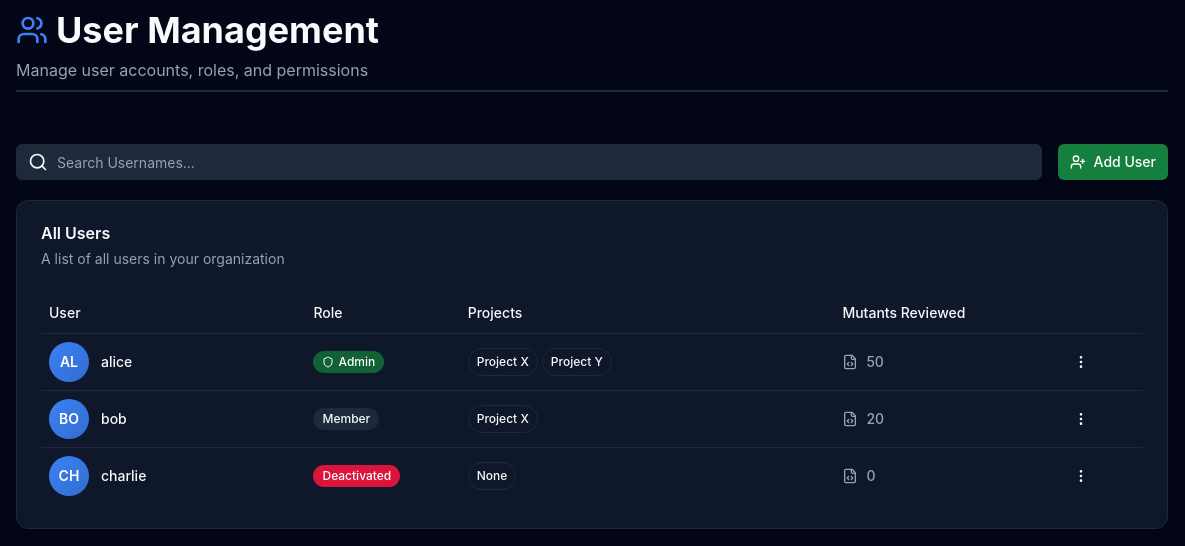
it: UserManagement › shows an empty-table message when search has no matches
Type "nobody" into the search field named "Search users". click: (529, 162)
box: [16,144,1042,180]
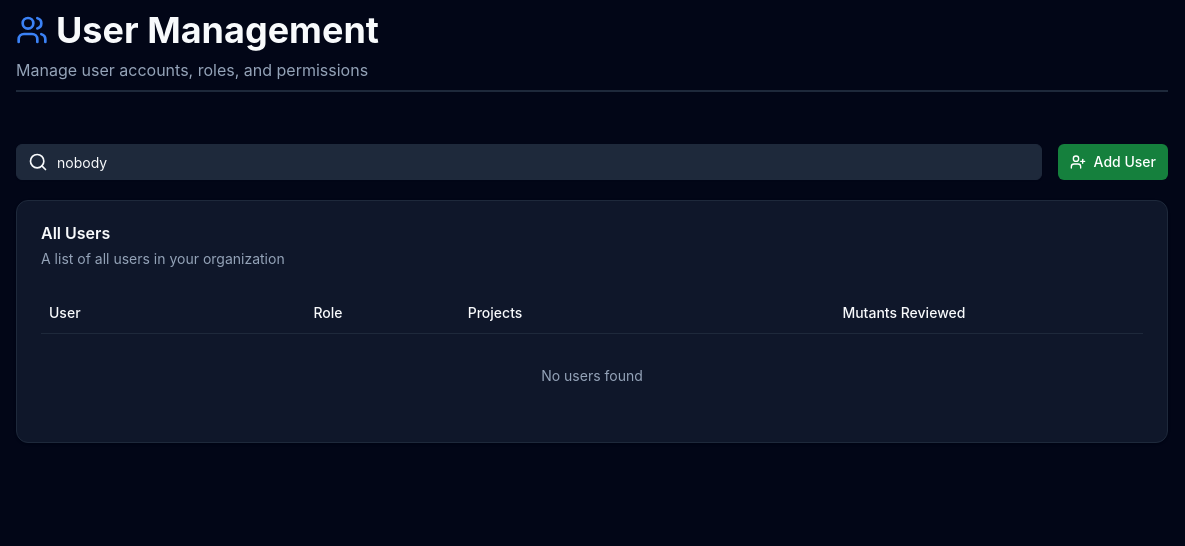
Now the text "No users found" is shown, box [41,333,1143,418]
